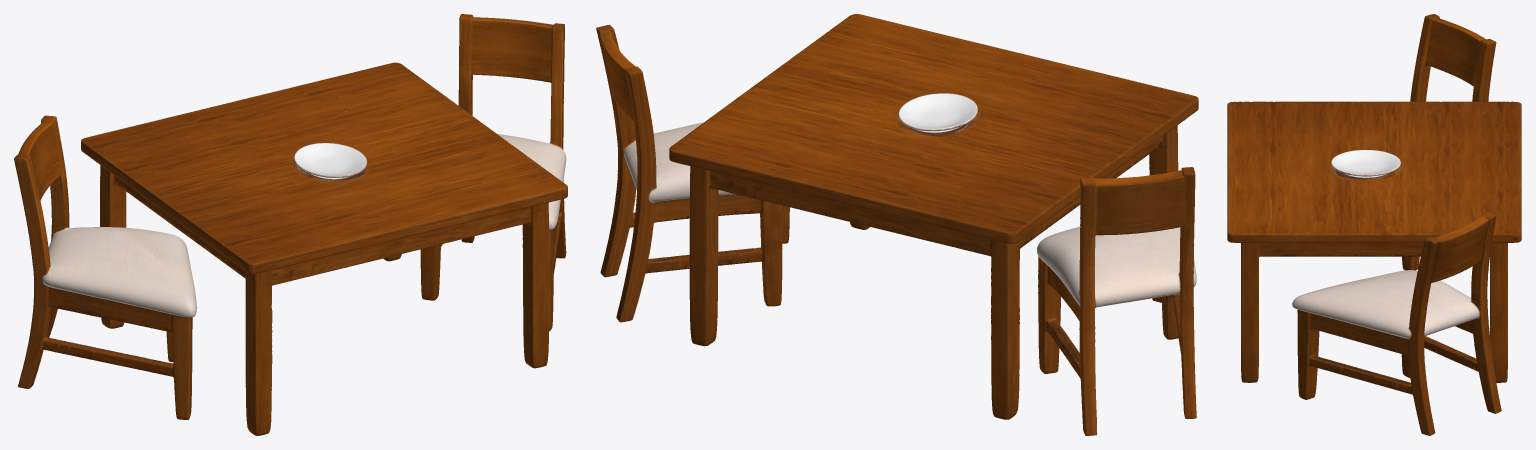
Rendered from dining_set_2.glb.
3 views of the same model, side by side, from view 1: azimuth 30°, elevation 25°; view 2: azimuth 150°, elevation 25°; view 3: azimuth 270°, elevation 25° (orthographic). The views are drawn at different scales.
Size of the model in its own units: 1.9 by 0.7524 by 1.03.
1 material, 1 textured.
